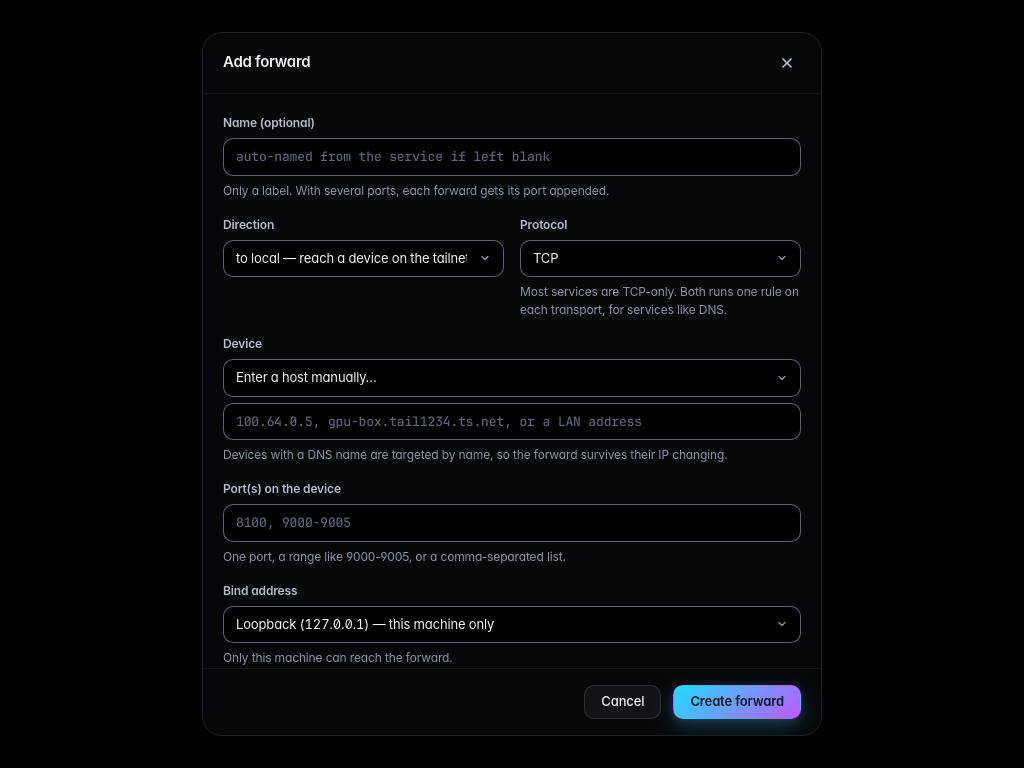
Test: what the dialog refuses to send › refuses no port at all
Type "gpu-box" into the field named "Host" at (512, 421), box [223,402,801,440]
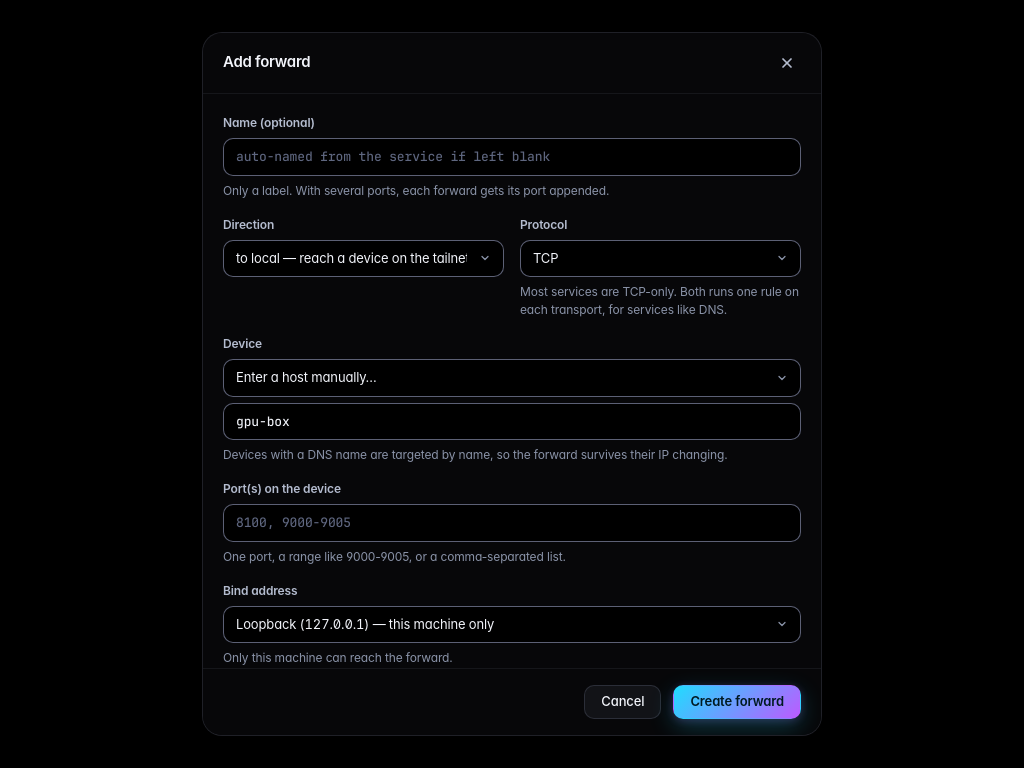
Click the button "Create forward" at (737, 702), box [673,686,801,719]
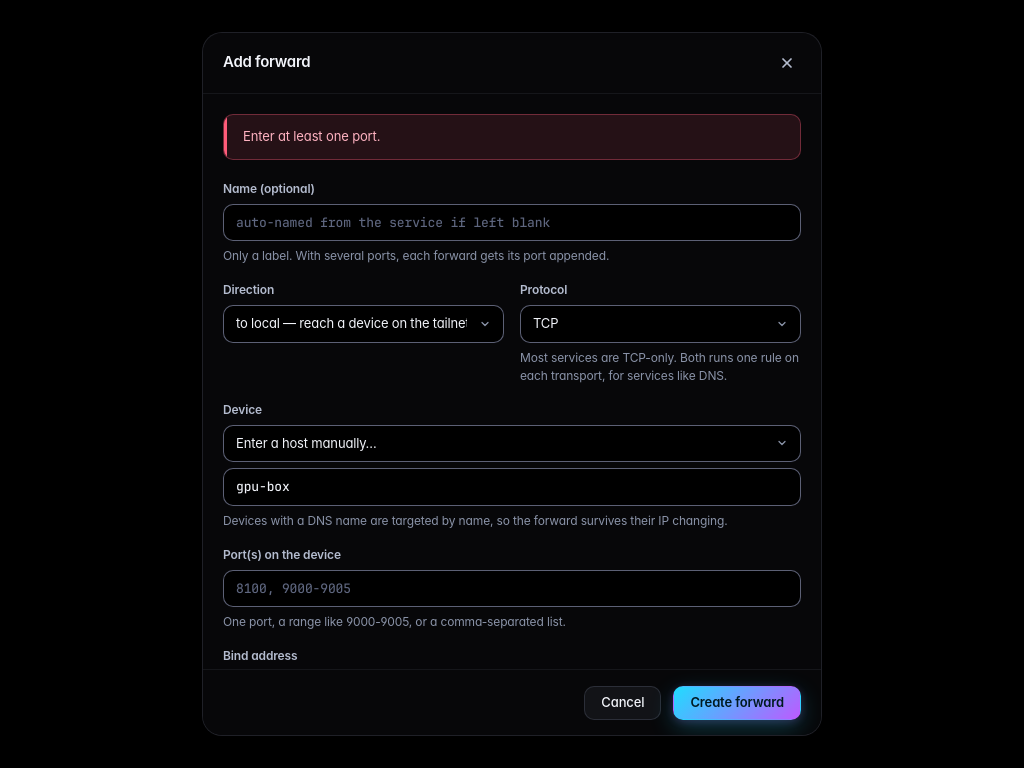
Expected: the text with class "error" reads "Enter at least one port.", [243,128,380,144]
